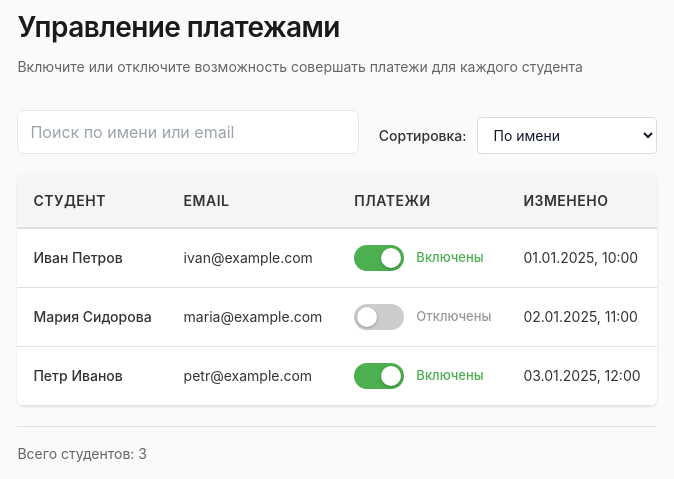
Scenario: PaymentSettings › Search Functionality › should filter students by name
Type "Мария" into the field with test id "search-input" at (188, 132), box [17,110,359,154]
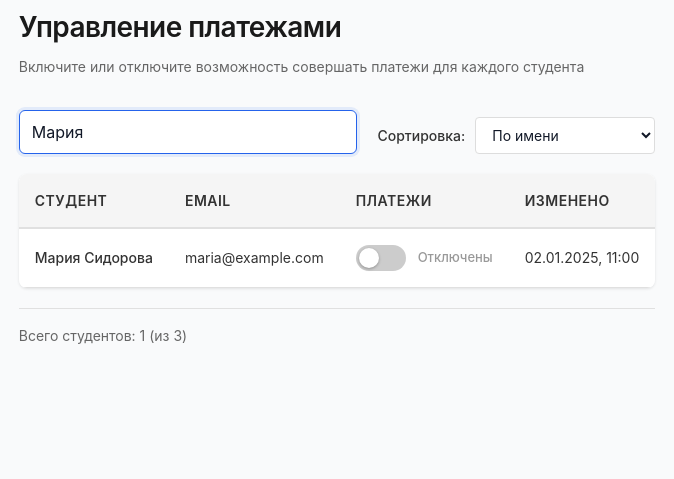
Now the text "Иван Петров" is gone
Now the text "Петр Иванов" is gone
Now the text "Всего студентов: 1 (из 3)" is shown, box [19,327,187,344]
